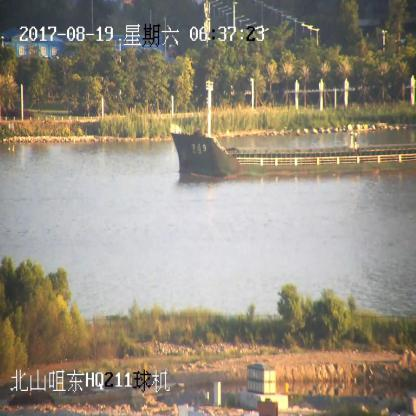Bulk Carrier: (171, 86, 415, 177)
